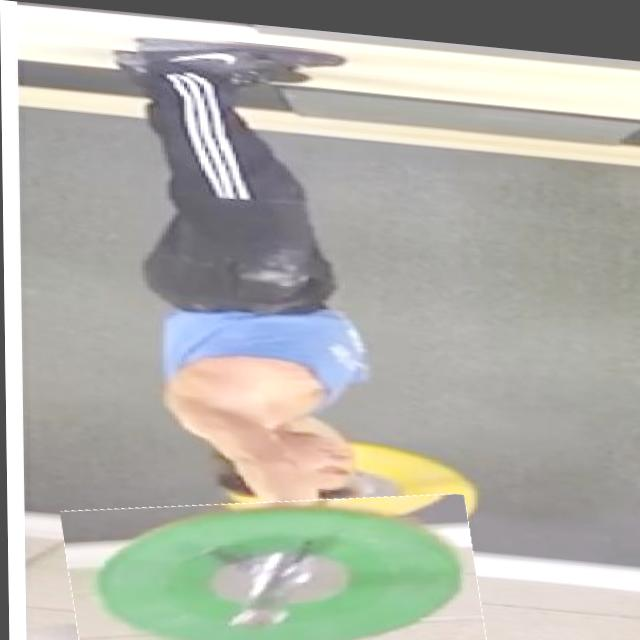barbell: (63, 469, 482, 640)
